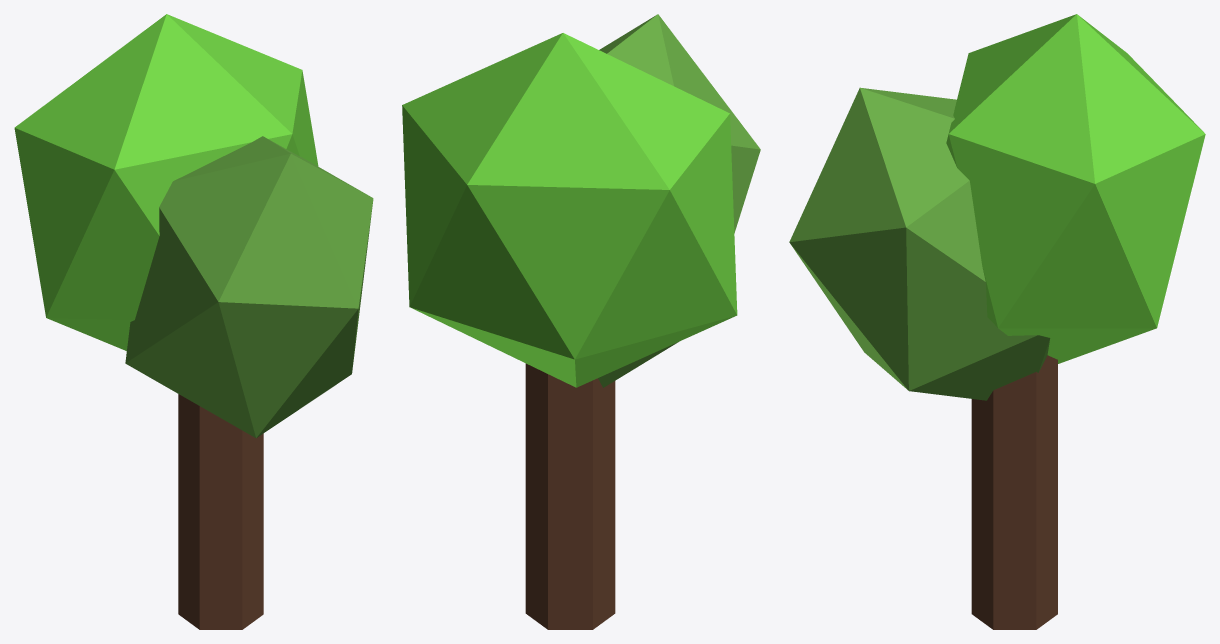
The model's file is tree.fbx.
3 views of the same model, side by side, from view 1: azimuth 30°, elevation 25°; view 2: azimuth 150°, elevation 25°; view 3: azimuth 270°, elevation 25° (orthographic). The views are drawn at different scales.
Visible parts, largest first — view 1: Tree; view 2: Tree; view 3: Tree.
Part boxes in pixels (left/top/right/bottom): Tree: left=14, top=14, right=373, bottom=629; Tree: left=402, top=14, right=760, bottom=629; Tree: left=789, top=14, right=1205, bottom=629.
Size of the model in its own units: 7.79 by 15.07 by 9.66.
